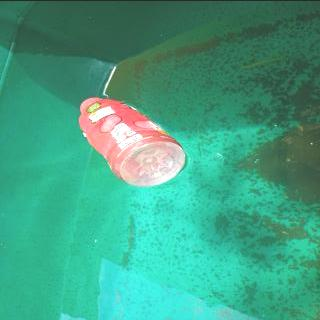bottle: (76, 95, 189, 188)
